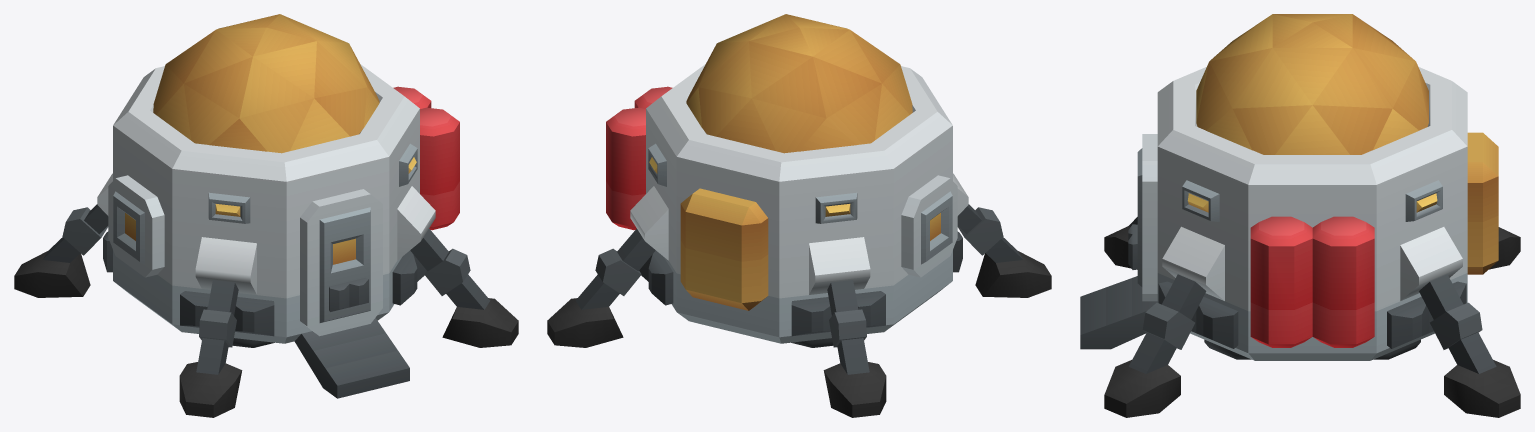
File: kk_lander_b.glb
3 renders of one model, left to right at view 1: azimuth 30°, elevation 25°; view 2: azimuth 150°, elevation 25°; view 3: azimuth 270°, elevation 25°, orthographic. The views are drawn at different scales.
Visible parts, largest first — view 1: lander_B; view 2: lander_B; view 3: lander_B.
Boxes of the visible parts, <box> form: lander_B: <box>14,14,518,417</box>; lander_B: <box>547,14,1051,417</box>; lander_B: <box>1080,14,1520,417</box>.
Size of the model in its own units: 7.52 by 6 by 7.79.
1 material, 1 textured.
